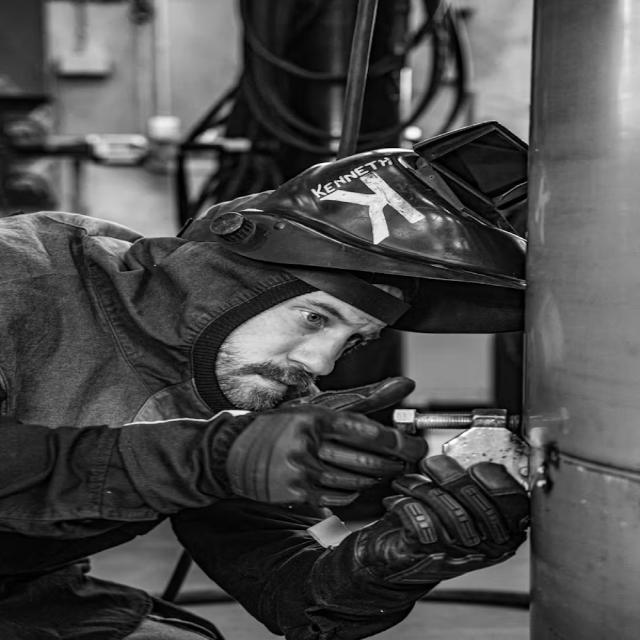helmet_lifted: (139, 117, 604, 429)
